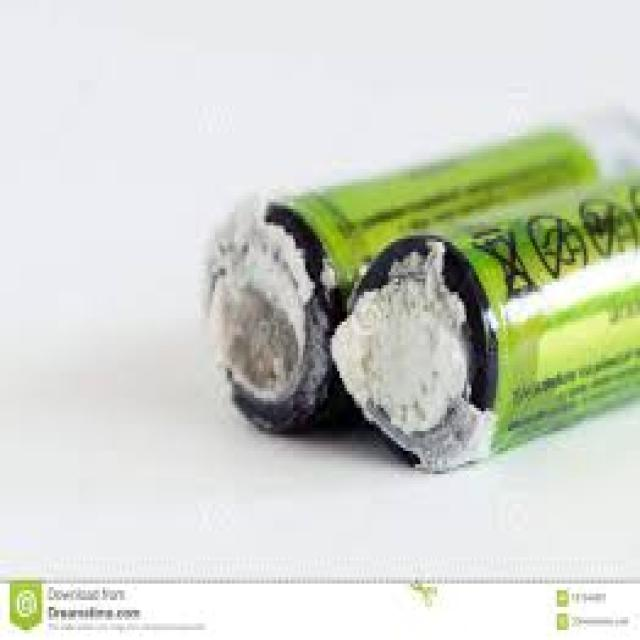battery: (205, 133, 638, 468)
